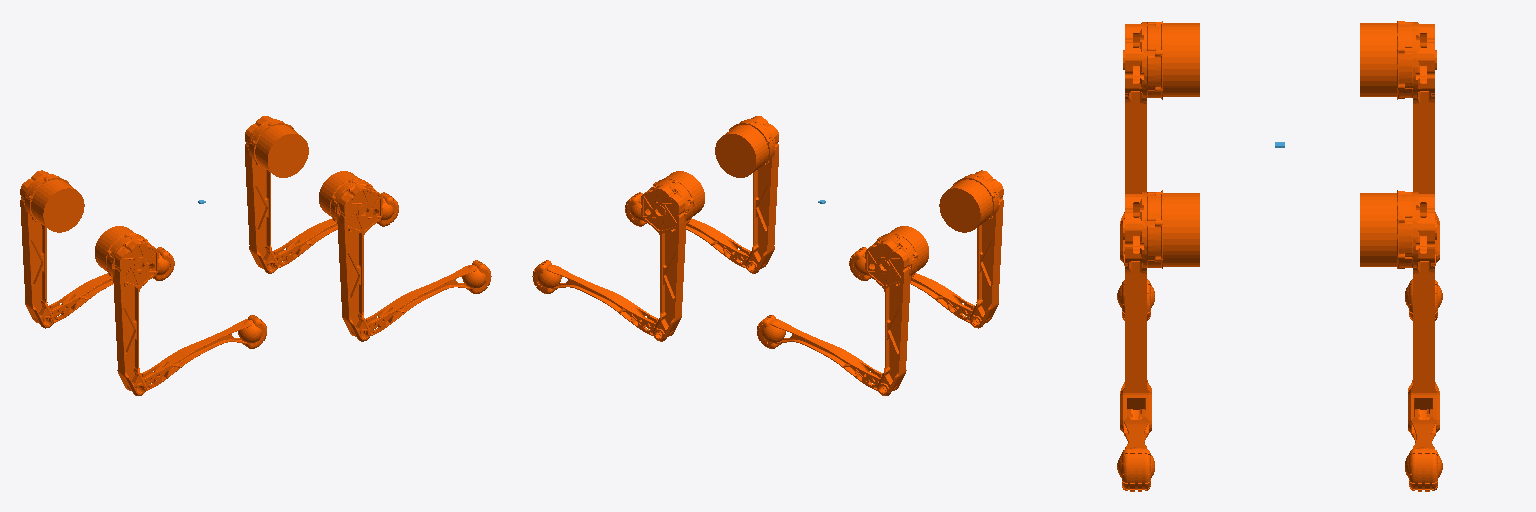
--- Render facts (derived) ---
3 views of the same robot in one strip: view 1: azimuth 30°, elevation 25°; view 2: azimuth 150°, elevation 25°; view 3: azimuth 270°, elevation 25° (orthographic).
Robot: robot — 18 links, 17 joints (12 revolute, 5 fixed); root link base; default pose: all joints at 0 but 4 set to mid-range because 0 is outside their limits (FR_calf_joint = -1.79, FL_calf_joint = -1.79, RR_calf_joint = -1.79, RL_calf_joint = -1.79).
Links seen in each view (by area): view 1: FR_thigh, RR_thigh, RL_thigh, FL_thigh, RR_calf, FR_calf, FL_calf, RL_calf; view 2: FL_thigh, RL_thigh, RR_thigh, FR_thigh, RL_calf, FL_calf, FR_calf, RR_calf; view 3: FL_thigh, FR_thigh, RL_thigh, RR_thigh, FR_calf, FL_calf.
Boxes of the visible links, bbox=[...] form: FR_thigh: bbox=[319, 171, 382, 341]; RR_thigh: bbox=[95, 226, 158, 395]; RL_thigh: bbox=[20, 170, 84, 328]; FL_thigh: bbox=[245, 116, 308, 273]; RR_calf: bbox=[127, 315, 266, 391]; FR_calf: bbox=[351, 260, 491, 336]; FL_calf: bbox=[259, 192, 398, 268]; RL_calf: bbox=[34, 247, 174, 323]; FL_thigh: bbox=[641, 171, 704, 341]; RL_thigh: bbox=[865, 226, 928, 395]; RR_thigh: bbox=[939, 170, 1003, 328]; FR_thigh: bbox=[715, 116, 778, 273]; RL_calf: bbox=[757, 315, 896, 391]; FL_calf: bbox=[532, 260, 672, 336]; FR_calf: bbox=[625, 192, 764, 268]; RR_calf: bbox=[849, 247, 989, 323]; FL_thigh: bbox=[1360, 190, 1439, 432]; FR_thigh: bbox=[1120, 190, 1199, 432]; RL_thigh: bbox=[1360, 21, 1439, 262]; RR_thigh: bbox=[1120, 21, 1199, 262]; FR_calf: bbox=[1122, 409, 1150, 491]; FL_calf: bbox=[1409, 409, 1437, 491].
Bounding box of the posed robot: 1.09 × 0.5268 × 0.4252 m (x, y, z).
8 mesh visuals loaded from 5 distinct referenced files (3 Collada DAE); not drawn: 5 (reference not matched to a file when rendering).

URDF robot description (robot):
<?xml version="1.0" ?>
<!-- =================================================================================== -->
<!-- |    This document was autogenerated by xacro from [local-path]/ocs2/catkin_ocs2/src/legged_control/legged_examples/legged_panda/legged_panda_description/urdf/robot.xacro | -->
<!-- |    EDITING THIS FILE BY HAND IS NOT RECOMMENDED                                 | -->
<!-- =================================================================================== -->
<robot name="robot">
  <material name="black">
    <color rgba="0.0 0.0 0.0 1.0"/>
  </material>
  <material name="blue">
    <color rgba="0.0 0.0 0.8 1.0"/>
  </material>
  <material name="green">
    <color rgba="0.0 0.8 0.0 1.0"/>
  </material>
  <material name="grey">
    <color rgba="0.2 0.2 0.2 1.0"/>
  </material>
  <material name="silver">
    <color rgba="0.9137254901960784 0.9137254901960784 0.8470588235294118 1.0"/>
  </material>
  <material name="orange">
    <color rgba="1.0 0.4235294117647059 0.0392156862745098 1.0"/>
  </material>
  <material name="brown">
    <color rgba="0.8705882352941177 0.8117647058823529 0.7647058823529411 1.0"/>
  </material>
  <material name="red">
    <color rgba="0.8 0.0 0.0 1.0"/>
  </material>
  <material name="white">
    <color rgba="1.0 1.0 1.0 1.0"/>
  </material>
  <!-- ros_control plugin -->
  <!--<gazebo>
    <plugin filename="liblegged_hw_sim.so" name="gazebo_ros_control">
      <robotNamespace>/</robotNamespace>
      <robotParam>robot_description</robotParam>
      <robotSimType>legged_gazebo/LeggedHWSim</robotSimType>
    </plugin>
  </gazebo>-->
  <gazebo>
    <plugin filename="libgazebo_ros_p3d.so" name="p3d_base_controller">
      <alwaysOn>true</alwaysOn>
      <updateRate>1000.0</updateRate>
      <bodyName>base</bodyName>
      <topicName>ground_truth/state</topicName>
      <gaussianNoise>0</gaussianNoise>
      <frameName>world</frameName>
      <xyzOffsets>0 0 0</xyzOffsets>
      <rpyOffsets>0 0 0</rpyOffsets>
    </plugin>
  </gazebo>
  <!--0.0485 -->
  <link name="base">
    <visual>
      <origin rpy="0 0 0" xyz="0 0 0"/>
      <geometry>
        <mesh filename="../meshes/trunk.dae" scale="1 1 1"/>
      </geometry>
    </visual>
    <collision>
      <origin rpy="0 0 0" xyz="0 0 0"/>
      <geometry>
        <box size="0.99 0.34 0.24"/>
      </geometry>
    </collision>
    <inertial>
      <origin rpy="0 0 0" xyz="0.013311 0.00018556 -0.016567"/>
      <mass value="101.893"/>
      <inertia ixx="0.32465" ixy="-5.7461E-06" ixz="0.00041931" iyy="0.6346" iyz="-3.6836E-06" izz="0.83084"/>
    </inertial>
  </link>
  <!-- Imu is fixed to the base link -->
  <joint name="imu_joint" type="fixed">
    <origin rpy="0. 0. 0." xyz="0. 0. 0."/>
    <parent link="base"/>
    <child link="imu"/>
  </joint>
  <!-- Imu link -->
  <link name="imu">
    <inertial>
      <mass value="0.01"/>
      <origin rpy="0 0 0" xyz="0 0 0"/>
      <inertia ixx="0.000001" ixy="0" ixz="0" iyy="0.000001" iyz="0" izz="0.000001"/>
    </inertial>
    <visual>
      <origin rpy="0 0 0" xyz="0 0 0"/>
      <geometry>
        <box size="0.015 0.015 0.004"/>
      </geometry>
    </visual>
    <material name="orange">
      <color rgba="255 108 10 255"/>
    </material>
  </link>
  <gazebo reference="imu">
    <material>Gazebo/Orange</material>
  </gazebo>
  <gazebo reference="imu_joint">
    <disableFixedJointLumping>true</disableFixedJointLumping>
  </gazebo>
  <joint name="FR_hip_joint" type="revolute">
    <origin rpy="0 0 0" xyz="0.325 -0.1125 0"/>
    <parent link="base"/>
    <child link="FR_hip"/>
    <axis xyz="1 0 0"/>
    <dynamics damping="0" friction="0"/>
    <limit effort="160" lower="-0.87" upper="0.69" velocity="19.3"/>
  </joint>
  <link name="FR_hip">
    <visual>
      <origin rpy="3.141592653589793 0 0" xyz="0 0 0"/>
      <geometry>
        <mesh filename="../meshes/hip.dae" scale="1 1 1"/>
      </geometry>
      <material name="orange"/>
    </visual>
    <!--<collision>
      <origin rpy="1.5707963267948966 0 0" xyz="0 0 0"/>
      <geometry>
        <cylinder length="0.036" radius="0.0615"/>
      </geometry>
    </collision>-->
    <inertial>
      <origin rpy="0 0 0" xyz="-0.0011794 0.02693 -5.8859E-07"/>
      <mass value="2.7264"/>
      <inertia ixx="0.0043529" ixy="7.7592E-06" ixz="-9.9737E-09" iyy="0.0056391" iyz="1.7393E-08" izz="0.0047569"/>
    </inertial>
  </link>
  <joint name="FR_thigh_joint" type="revolute">
    <origin rpy="0 0 0" xyz="0 -0.119875 0"/>
    <parent link="FR_hip"/>
    <child link="FR_thigh"/>
    <axis xyz="0 1 0"/>
    <dynamics damping="0" friction="0"/>
    <limit effort="180" lower="-1.46" upper="1.70" velocity="21.6"/>
  </joint>
  <link name="FR_thigh">
    <visual>
      <origin rpy="0 0 0" xyz="0 0 0"/>
      <geometry>
        <mesh filename="../meshes/thigh_mirror.dae" scale="1 1 1"/>
      </geometry>
      <material name="orange"/>
    </visual>
    <!--<collision>
      <origin rpy="0 1.6707963267948966 0" xyz="-0.0178 0 -0.17"/>
      <geometry>
        <box size="0.34 0.036 0.075"/>
      </geometry>
    </collision>
    <collision>
      <origin rpy="1.5707963267948966 0 0" xyz="0 -0.0 0"/>
      <geometry>
        <cylinder length="0.097" radius="0.0615"/>
      </geometry>
    </collision>-->
    <inertial>
      <origin rpy="0 0 0" xyz="-0.005004 0.039405 -0.043966"/>
      <mass value="3.8759"/>
      <inertia ixx="0.022149" ixy="-2.4664E-05" ixz="0.00048604" iyy="0.023895" iyz="-0.00022372" izz="0.0050421"/>
    </inertial>
  </link>
  <joint name="FR_calf_joint" type="revolute">
    <origin rpy="0 0 0" xyz="0 0 -0.34"/>
    <parent link="FR_thigh"/>
    <child link="FR_calf"/>
    <axis xyz="0 1 0"/>
    <dynamics damping="0" friction="0"/>
    <limit effort="572" lower="-2.862" upper="-0.712" velocity="12.8"/>
    <!--lower="-2.61" upper="-0.520"-->
  </joint>
  <link name="FR_calf">
    <visual>
      <origin rpy="0 0 0" xyz="0 0 0"/>
      <geometry>
        <mesh filename="../meshes/calf.dae" scale="1 1 1"/>
      </geometry>
      <material name="orange"/>
    </visual>
    <collision>
      <origin rpy="0 1.5707963267948966 0" xyz="0.0 0 -0.17"/>
      <geometry>
        <box size="0.25 0.04 0.0495"/>
      </geometry>
    </collision>
    <inertial>
      <origin rpy="0 0 0" xyz="0.0089846 -1.5207E-05 -0.13978"/>
      <mass value="0.36501"/>
      <inertia ixx="0.0043781" ixy="5.2463E-08" ixz="-0.00021794" iyy="0.0044166" iyz="-5.3467E-07" izz="9.9391E-05"/>
    </inertial>
  </link>
  <joint name="FR_foot_fixed" type="fixed" dont_collapse="true">
    <origin rpy="0 0 0" xyz="0 0 -0.34"/>
    <parent link="FR_calf"/>
    <child link="FR_FOOT"/>
  </joint>
  <link name="FR_FOOT">
    <visual>
      <origin rpy="0 0 0" xyz="0 0 0"/>
      <geometry>
        <sphere radius="0.031"/>
      </geometry>
      <material name="orange"/>
    </visual>
    <collision>
      <origin rpy="0 0 0" xyz="0 0 0"/>
      <geometry>
        <sphere radius="0.041"/>
      </geometry>
    </collision>
    <inertial>
      <mass value="0.06"/>
      <inertia ixx="4.0344000000000005e-05" ixy="0.0" ixz="0.0" iyy="4.0344000000000005e-05" iyz="0.0" izz="4.0344000000000005e-05"/>
    </inertial>
  </link>
  <gazebo reference="FR_foot_fixed">
    <disableFixedJointLumping>true</disableFixedJointLumping>
  </gazebo>
  <gazebo reference="FR_hip">
    <mu1>0.2</mu1>
    <mu2>0.2</mu2>
    <material>Gazebo/DarkGrey</material>
  </gazebo>
  <gazebo reference="FR_thigh">
    <mu1>0.2</mu1>
    <mu2>0.2</mu2>
    <self_collide>0</self_collide>
    <material>Gazebo/DarkGrey</material>
    <kp value="1000000.0"/>
    <kd value="100.0"/>
  </gazebo>
  <gazebo reference="FR_calf">
    <mu1>0.6</mu1>
    <mu2>0.6</mu2>
    <self_collide>1</self_collide>
  </gazebo>
  <gazebo reference="FR_FOOT">
    <mu1>0.6</mu1>
    <mu2>0.6</mu2>
    <self_collide>1</self_collide>
    <material>Gazebo/DarkGrey</material>
    <kp value="1000000.0"/>
    <kd value="100.0"/>
  </gazebo>
  <transmission name="FR_hip_joint_tran">
    <type>transmission_interface/SimpleTransmission</type>
    <joint name="FR_hip_joint">
      <hardwareInterface>hardware_interface/EffortJointInterface</hardwareInterface>
    </joint>
    <actuator name="FR_hip_joint_motor">
      <hardwareInterface>hardware_interface/EffortJointInterface</hardwareInterface>
      <mechanicalReduction>1</mechanicalReduction>
    </actuator>
  </transmission>
  <transmission name="FR_thigh_joint_tran">
    <type>transmission_interface/SimpleTransmission</type>
    <joint name="FR_thigh_joint">
      <hardwareInterface>hardware_interface/EffortJointInterface</hardwareInterface>
    </joint>
    <actuator name="FR_thigh_joint_motor">
      <hardwareInterface>hardware_interface/EffortJointInterface</hardwareInterface>
      <mechanicalReduction>1</mechanicalReduction>
    </actuator>
  </transmission>
  <transmission name="FR_calf_joint_tran">
    <type>transmission_interface/SimpleTransmission</type>
    <joint name="FR_calf_joint">
      <hardwareInterface>hardware_interface/EffortJointInterface</hardwareInterface>
    </joint>
    <actuator name="FR_calf_joint_motor">
      <hardwareInterface>hardware_interface/EffortJointInterface</hardwareInterface>
      <mechanicalReduction>1</mechanicalReduction>
    </actuator>
  </transmission>
  <joint name="FL_hip_joint" type="revolute">
    <origin rpy="0 0 0" xyz="0.325 0.1125 0"/>
    <parent link="base"/>
    <child link="FL_hip"/>
    <axis xyz="1 0 0"/>
    <dynamics damping="0" friction="0"/>
    <limit effort="160" lower="-0.69" upper="0.87" velocity="19.3"/>
  </joint>
  <link name="FL_hip">
    <visual>
      <origin rpy="0 0 0" xyz="0 0 0"/>
      <geometry>
        <mesh filename="../meshes/hip.dae" scale="1 1 1"/>
      </geometry>
      <material name="orange"/>
    </visual>
   <!-- <collision>
      <origin rpy="1.5707963267948966 0 0" xyz="0 0 0"/>
      <geometry>
        <cylinder length="0.036" radius="0.0615"/>
      </geometry>
    </collision> -->
    <inertial>
      <origin rpy="0 0 0" xyz="-0.0011794 -0.02693 5.8859E-07"/>
      <mass value="2.7264"/>
      <inertia ixx="0.0043529" ixy="-7.7592E-06" ixz="9.9737E-09" iyy="0.0056391" iyz="1.7393E-08" izz="0.0047569"/>
    </inertial>
  </link>
  <joint name="FL_thigh_joint" type="revolute">
    <origin rpy="0 0 0" xyz="0 0.119875 0"/>
    <parent link="FL_hip"/>
    <child link="FL_thigh"/>
    <axis xyz="0 1 0"/>
    <dynamics damping="0" friction="0"/>
    <limit effort="180" lower="-1.46" upper="1.70" velocity="21.6"/>
  </joint>
  <link name="FL_thigh">
    <visual>
      <origin rpy="0 0 0" xyz="0 0 0"/>
      <geometry>
        <mesh filename="../meshes/thigh.dae" scale="1 1 1"/>
      </geometry>
      <material name="orange"/>
    </visual>
    <!--<collision>
      <origin rpy="0 1.6707963267948966 0" xyz="-0.0178 0 -0.17"/>
      <geometry>
        <box size="0.34 0.036 0.075"/>
      </geometry>
    </collision>
    <collision>
      <origin rpy="1.5707963267948966 0 0" xyz="0 0.0 0"/>
      <geometry>
        <cylinder length="0.097" radius="0.0615"/>
      </geometry>
    </collision>-->
    <inertial>
      <origin rpy="0 0 0" xyz="-0.005004 -0.039405 -0.043966"/>
      <mass value="3.8759"/>
      <inertia ixx="0.022149" ixy="2.4664E-05" ixz="0.00048604" iyy="0.023895" iyz="0.00022372" izz="0.0050421"/>
    </inertial>
  </link>
  <joint name="FL_calf_joint" type="revolute">
    <origin rpy="0 0 0" xyz="0 0 -0.34"/>
    <parent link="FL_thigh"/>
    <child link="FL_calf"/>
    <axis xyz="0 1 0"/>
    <dynamics damping="0" friction="0"/>
    <limit effort="572" lower="-2.862" upper="-0.712" velocity="12.8"/>
  </joint>
  <link name="FL_calf">
    <visual>
      <origin rpy="0 0 0" xyz="0 0 0"/>
      <geometry>
        <mesh filename="../meshes/calf.dae" scale="1 1 1"/>
      </geometry>
      <material name="orange"/>
    </visual>
    <collision>
      <origin rpy="0 1.5707963267948966 0" xyz="0.0 0 -0.17"/>
      <geometry>
        <box size="0.25 0.04 0.0495"/>
      </geometry>
    </collision>
    <inertial>
      <origin rpy="0 0 0" xyz="0.0089845 1.5139E-05 -0.13978"/>
      <mass value="0.365"/>
      <inertia ixx="0.004378" ixy="-5.2867E-08" ixz="-0.00021794" iyy="0.0044166" iyz="5.3468E-07" izz="9.9391E-05"/>
    </inertial>
  </link>
  <joint name="FL_foot_fixed" type="fixed" dont_collapse="true">
    <origin rpy="0 0 0" xyz="0 0 -0.34"/>
    <parent link="FL_calf"/>
    <child link="FL_FOOT"/>
  </joint>
  <link name="FL_FOOT">
    <visual>
      <origin rpy="0 0 0" xyz="0 0 0"/>
      <geometry>
        <sphere radius="0.031"/>
      </geometry>
      <material name="orange"/>
    </visual>
    <collision>
      <origin rpy="0 0 0" xyz="0 0 0"/>
      <geometry>
        <sphere radius="0.041"/>
      </geometry>
    </collision>
    <inertial>
      <mass value="0.06"/>
      <inertia ixx="4.0344000000000005e-05" ixy="0.0" ixz="0.0" iyy="4.0344000000000005e-05" iyz="0.0" izz="4.0344000000000005e-05"/>
    </inertial>
  </link>
  <gazebo reference="FL_foot_fixed">
    <disableFixedJointLumping>true</disableFixedJointLumping>
  </gazebo>
  <gazebo reference="FL_hip">
    <mu1>0.2</mu1>
    <mu2>0.2</mu2>
    <material>Gazebo/DarkGrey</material>
  </gazebo>
  <gazebo reference="FL_thigh">
    <mu1>0.2</mu1>
    <mu2>0.2</mu2>
    <self_collide>0</self_collide>
    <material>Gazebo/DarkGrey</material>
    <kp value="1000000.0"/>
    <kd value="100.0"/>
  </gazebo>
  <gazebo reference="FL_calf">
    <mu1>0.6</mu1>
    <mu2>0.6</mu2>
    <self_collide>1</self_collide>
  </gazebo>
  <gazebo reference="FL_FOOT">
    <mu1>0.6</mu1>
    <mu2>0.6</mu2>
    <self_collide>1</self_collide>
    <material>Gazebo/DarkGrey</material>
    <kp value="1000000.0"/>
    <kd value="100.0"/>
  </gazebo>
  <transmission name="FL_hip_joint_tran">
    <type>transmission_interface/SimpleTransmission</type>
    <joint name="FL_hip_joint">
      <hardwareInterface>hardware_interface/EffortJointInterface</hardwareInterface>
    </joint>
    <actuator name="FL_hip_joint_motor">
      <hardwareInterface>hardware_interface/EffortJointInterface</hardwareInterface>
      <mechanicalReduction>1</mechanicalReduction>
    </actuator>
  </transmission>
  <transmission name="FL_thigh_joint_tran">
    <type>transmission_interface/SimpleTransmission</type>
    <joint name="FL_thigh_joint">
      <hardwareInterface>hardware_interface/EffortJointInterface</hardwareInterface>
    </joint>
    <actuator name="FL_thigh_joint_motor">
      <hardwareInterface>hardware_interface/EffortJointInterface</hardwareInterface>
      <mechanicalReduction>1</mechanicalReduction>
    </actuator>
  </transmission>
  <transmission name="FL_calf_joint_tran">
    <type>transmission_interface/SimpleTransmission</type>
    <joint name="FL_calf_joint">
      <hardwareInterface>hardware_interface/EffortJointInterface</hardwareInterface>
    </joint>
    <actuator name="FL_calf_joint_motor">
      <hardwareInterface>hardware_interface/EffortJointInterface</hardwareInterface>
      <mechanicalReduction>1</mechanicalReduction>
    </actuator>
  </transmission>
  <joint name="RR_hip_joint" type="revolute">
    <origin rpy="0 0 0" xyz="-0.325 -0.1125 0"/>
    <parent link="base"/>
    <child link="RR_hip"/>
    <axis xyz="1 0 0"/>
    <dynamics damping="0" friction="0"/>
    <limit effort="160" lower="-0.87" upper="0.69" velocity="19.3"/>
  </joint>
  <link name="RR_hip">
    <visual>
      <origin rpy="3.141592653589793 3.141592653589793 0" xyz="0 0 0"/>
      <geometry>
        <mesh filename="../meshes/hip.dae" scale="1 1 1"/>
      </geometry>
      <material name="orange"/>
    </visual>
    <!--<collision>
      <origin rpy="1.5707963267948966 0 0" xyz="0 0 0"/>
      <geometry>
        <cylinder length="0.036" radius="0.0615"/>
      </geometry>
    </collision>-->
    <inertial>
      <origin rpy="0 0 0" xyz="0.0011794 0.02693 5.8859E-07"/>
      <mass value="2.7264"/>
      <inertia ixx="0.0043529" ixy="-7.7592E-06" ixz="-9.9737E-09" iyy="0.0056391" iyz="-1.7393E-08" izz="0.0047569"/>
    </inertial>
  </link>
  <joint name="RR_thigh_joint" type="revolute">
    <origin rpy="0 0 0" xyz="0 -0.119875 0"/>
    <parent link="RR_hip"/>
    <child link="RR_thigh"/>
    <axis xyz="0 1 0"/>
    <dynamics damping="0" friction="0"/>
    <limit effort="180" lower="-1.86" upper="1.70" velocity="21.6"/>
  </joint>
  <link name="RR_thigh">
    <visual>
      <origin rpy="0 0 0" xyz="0 0 0"/>
      <geometry>
        <mesh filename="../meshes/thigh_mirror.dae" scale="1 1 1"/>
      </geometry>
      <material name="orange"/>
    </visual>
   <!-- <collision>
      <origin rpy="0 1.6707963267948966 0" xyz="-0.0178 0 -0.17"/>
      <geometry>
        <box size="0.34 0.036 0.075"/>
      </geometry>
    </collision>
    <collision>
      <origin rpy="1.5707963267948966 0 0" xyz="0 -0.0 0"/>
      <geometry>
        <cylinder length="0.097" radius="0.0615"/>
      </geometry>
    </collision> -->
    <inertial>
      <origin rpy="0 0 0" xyz="-0.005004 0.039405 -0.043966"/>
      <mass value="3.8759"/>
      <inertia ixx="0.022149" ixy="-2.4664E-05" ixz="0.00048604" iyy="0.023895" iyz="-0.00022372" izz="0.0050421"/>
    </inertial>
  </link>
  <joint name="RR_calf_joint" type="revolute">
    <origin rpy="0 0 0" xyz="0 0 -0.34"/>
    <parent link="RR_thigh"/>
    <child link="RR_calf"/>
    <axis xyz="0 1 0"/>
    <dynamics damping="0" friction="0"/>
    <limit effort="572" lower="-2.862" upper="-0.712" velocity="12.8"/>
  </joint>
  <link name="RR_calf">
    <visual>
      <origin rpy="0 0 0" xyz="0 0 0"/>
      <geometry>
        <mesh filename="../meshes/calf.dae" scale="1 1 1"/>
      </geometry>
      <material name="orange"/>
    </visual>
    <collision>
      <origin rpy="0 1.5707963267948966 0" xyz="0.0 0 -0.17"/>
      <geometry>
        <box size="0.25 0.04 0.0495"/>
      </geometry>
    </collision>
    <inertial>
      <origin rpy="0 0 0" xyz="0.0089846 -1.5205E-05 -0.13978"/>
      <mass value="0.36501"/>
      <inertia ixx="0.0043781" ixy="5.2448E-08" ixz="-0.00021794" iyy="0.0044166" iyz="-5.3462E-07" izz="9.9391E-05"/>
    </inertial>
  </link>
  <joint name="RR_foot_fixed" type="fixed" dont_collapse="true">
    <origin rpy="0 0 0" xyz="0 0 -0.34"/>
    <parent link="RR_calf"/>
    <child link="RR_FOOT"/>
  </joint>
  <link name="RR_FOOT">
    <visual>
      <origin rpy="0 0 0" xyz="0 0 0"/>
      <geometry>
        <sphere radius="0.031"/>
      </geometry>
      <material name="orange"/>
    </visual>
    <collision>
      <origin rpy="0 0 0" xyz="0 0 0"/>
      <geometry>
        <sphere radius="0.041"/>
      </geometry>
    </collision>
    <inertial>
      <mass value="0.06"/>
      <inertia ixx="4.0344000000000005e-05" ixy="0.0" ixz="0.0" iyy="4.0344000000000005e-05" iyz="0.0" izz="4.0344000000000005e-05"/>
    </inertial>
  </link>
  <gazebo reference="RR_foot_fixed">
    <disableFixedJointLumping>true</disableFixedJointLumping>
  </gazebo>
  <gazebo reference="RR_hip">
    <mu1>0.2</mu1>
    <mu2>0.2</mu2>
    <material>Gazebo/DarkGrey</material>
  </gazebo>
  <gazebo reference="RR_thigh">
    <mu1>0.2</mu1>
    <mu2>0.2</mu2>
    <self_collide>0</self_collide>
    <material>Gazebo/DarkGrey</material>
    <kp value="1000000.0"/>
    <kd value="100.0"/>
  </gazebo>
  <gazebo reference="RR_calf">
    <mu1>0.6</mu1>
    <mu2>0.6</mu2>
    <self_collide>1</self_collide>
  </gazebo>
  <gazebo reference="RR_FOOT">
    <mu1>0.6</mu1>
    <mu2>0.6</mu2>
    <self_collide>1</self_collide>
    <material>Gazebo/DarkGrey</material>
    <kp value="1000000.0"/>
    <kd value="100.0"/>
  </gazebo>
  <transmission name="RR_hip_joint_tran">
    <type>transmission_interface/SimpleTransmission</type>
    <joint name="RR_hip_joint">
      <hardwareInterface>hardware_interface/EffortJointInterface</hardwareInterface>
    </joint>
    <actuator name="RR_hip_joint_motor">
      <hardwareInterface>hardware_interface/EffortJointInterface</hardwareInterface>
      <mechanicalReduction>1</mechanicalReduction>
    </actuator>
  </transmission>
  <transmission name="RR_thigh_joint_tran">
    <type>transmission_interface/SimpleTransmission</type>
    <joint name="RR_thigh_joint">
      <hardwareInterface>hardware_interface/EffortJointInterface</hardwareInterface>
    </joint>
    <actuator name="RR_thigh_joint_motor">
      <hardwareInterface>hardware_interface/EffortJointInterface</hardwareInterface>
      <mechanicalReduction>1</mechanicalReduction>
    </actuator>
  </transmission>
  <transmission name="RR_calf_joint_tran">
    <type>transmission_interface/SimpleTransmission</type>
    <joint name="RR_calf_joint">
      <hardwareInterface>hardware_interface/EffortJointInterface</hardwareInterface>
    </joint>
    <actuator name="RR_calf_joint_motor">
      <hardwareInterface>hardware_interface/EffortJointInterface</hardwareInterface>
      <mechanicalReduction>1</mechanicalReduction>
    </actuator>
  </transmission>
  <joint name="RL_hip_joint" type="revolute">
    <origin rpy="0 0 0" xyz="-0.325 0.1125 0"/>
    <parent link="base"/>
    <child link="RL_hip"/>
    <axis xyz="1 0 0"/>
    <dynamics damping="0" friction="0"/>
    <limit effort="160" lower="-0.69" upper="0.87" velocity="19.3"/>
  </joint>
  <link name="RL_hip">
    <visual>
      <origin rpy="0 3.141592653589793 0" xyz="0 0 0"/>
      <geometry>
        <mesh filename="../meshes/hip.dae" scale="1 1 1"/>
      </geometry>
      <material name="orange"/>
    </visual>
    <!--<collision>
      <origin rpy="1.5707963267948966 0 0" xyz="0 0 0"/>
      <geometry>
        <cylinder length="0.036" radius="0.0615"/>
      </geometry>
    </collision>-->
    <inertial>
      <origin rpy="0 0 0" xyz="0.0011794 -0.02693 -5.8859E-07"/>
      <mass value="2.7264"/>
      <inertia ixx="0.0043529" ixy="7.7592E-06" ixz="9.9737E-09" iyy="0.0056391" iyz="-1.7393E-08" izz="0.0047569"/>
    </inertial>
  </link>
  <joint name="RL_thigh_joint" type="revolute">
    <origin rpy="0 0 0" xyz="0 0.119875 0"/>
    <parent link="RL_hip"/>
    <child link="RL_thigh"/>
    <axis xyz="0 1 0"/>
    <dynamics damping="0" friction="0"/>
    <limit effort="180" lower="-1.86" upper="1.70" velocity="21.6"/>
  </joint>
  <link name="RL_thigh">
    <visual>
      <origin rpy="0 0 0" xyz="0 0 0"/>
      <geometry>
        <mesh filename="../meshes/thigh.dae" scale="1 1 1"/>
      </geometry>
      <material name="orange"/>
    </visual>
    <!--<collision>
      <origin rpy="0 1.6707963267948966 0" xyz="-0.0178 0 -0.17"/>
      <geometry>
        <box size="0.34 0.036 0.075"/>
      </geometry>
    </collision>
    <collision>
      <origin rpy="1.5707963267948966 0 0" xyz="0 0.0 0"/>
      <geometry>
        <cylinder length="0.097" radius="0.0615"/>
      </geometry>
    </collision>-->
    <inertial>
      <origin rpy="0 0 0" xyz="-0.005004 -0.039405 -0.043966"/>
      <mass value="3.8759"/>
      <inertia ixx="0.022149" ixy="2.4664E-05" ixz="0.00048604" iyy="0.023895" iyz="0.00022372" izz="0.0050421"/>
    </inertial>
  </link>
  <joint name="RL_calf_joint" type="revolute">
    <origin rpy="0 0 0" xyz="0 0 -0.34"/>
    <parent link="RL_thigh"/>
    <child link="RL_calf"/>
    <axis xyz="0 1 0"/>
    <dynamics damping="0" friction="0"/>
    <limit effort="572" lower="-2.862" upper="-0.712" velocity="12.8"/>
  </joint>
  <link name="RL_calf">
    <visual>
      <origin rpy="0 0 0" xyz="0 0 0"/>
      <geometry>
        <mesh filename="../meshes/calf.dae" scale="1 1 1"/>
      </geometry>
      <material name="orange"/>
    </visual>
    <collision>
      <origin rpy="0 1.5707963267948966 0" xyz="0.0 0 -0.17"/>
      <geometry>
        <box size="0.25 0.04 0.0495"/>
      </geometry>
    </collision>
    <inertial>
      <origin rpy="0 0 0" xyz="0.0089845 1.5139E-05 -0.13978"/>
      <mass value="0.365"/>
      <inertia ixx="0.004378" ixy="-5.2867E-08" ixz="-0.00021794" iyy="0.0044166" iyz="5.3468E-07" izz="9.9391E-05"/>
    </inertial>
  </link>
  <joint name="RL_foot_fixed" type="fixed" dont_collapse="true">
    <origin rpy="0 0 0" xyz="0 0 -0.34"/>
    <parent link="RL_calf"/>
    <child link="RL_FOOT"/>
  </joint>
  <link name="RL_FOOT">
    <visual>
      <origin rpy="0 0 0" xyz="0 0 0"/>
      <geometry>
        <sphere radius="0.031"/>
      </geometry>
      <material name="orange"/>
    </visual>
    <collision>
      <origin rpy="0 0 0" xyz="0 0 0"/>
      <geometry>
        <sphere radius="0.041"/>
      </geometry>
    </collision>
    <inertial>
      <mass value="0.06"/>
      <inertia ixx="4.0344000000000005e-05" ixy="0.0" ixz="0.0" iyy="4.0344000000000005e-05" iyz="0.0" izz="4.0344000000000005e-05"/>
    </inertial>
  </link>
  <gazebo reference="RL_foot_fixed">
    <disableFixedJointLumping>true</disableFixedJointLumping>
  </gazebo>
  <gazebo reference="RL_hip">
    <mu1>0.2</mu1>
    <mu2>0.2</mu2>
    <material>Gazebo/DarkGrey</material>
  </gazebo>
  <gazebo reference="RL_thigh">
    <mu1>0.2</mu1>
    <mu2>0.2</mu2>
    <self_collide>0</self_collide>
    <material>Gazebo/DarkGrey</material>
    <kp value="1000000.0"/>
    <kd value="100.0"/>
  </gazebo>
  <gazebo reference="RL_calf">
    <mu1>0.6</mu1>
    <mu2>0.6</mu2>
    <self_collide>1</self_collide>
  </gazebo>
  <gazebo reference="RL_FOOT">
    <mu1>0.6</mu1>
    <mu2>0.6</mu2>
    <self_collide>1</self_collide>
    <material>Gazebo/DarkGrey</material>
    <kp value="1000000.0"/>
    <kd value="100.0"/>
  </gazebo>
  <transmission name="RL_hip_joint_tran">
    <type>transmission_interface/SimpleTransmission</type>
    <joint name="RL_hip_joint">
      <hardwareInterface>hardware_interface/EffortJointInterface</hardwareInterface>
    </joint>
    <actuator name="RL_hip_joint_motor">
      <hardwareInterface>hardware_interface/EffortJointInterface</hardwareInterface>
      <mechanicalReduction>1</mechanicalReduction>
    </actuator>
  </transmission>
  <transmission name="RL_thigh_joint_tran">
    <type>transmission_interface/SimpleTransmission</type>
    <joint name="RL_thigh_joint">
      <hardwareInterface>hardware_interface/EffortJointInterface</hardwareInterface>
    </joint>
    <actuator name="RL_thigh_joint_motor">
      <hardwareInterface>hardware_interface/EffortJointInterface</hardwareInterface>
      <mechanicalReduction>1</mechanicalReduction>
    </actuator>
  </transmission>
  <transmission name="RL_calf_joint_tran">
    <type>transmission_interface/SimpleTransmission</type>
    <joint name="RL_calf_joint">
      <hardwareInterface>hardware_interface/EffortJointInterface</hardwareInterface>
    </joint>
    <actuator name="RL_calf_joint_motor">
      <hardwareInterface>hardware_interface/EffortJointInterface</hardwareInterface>
      <mechanicalReduction>1</mechanicalReduction>
    </actuator>
  </transmission>
</robot>
